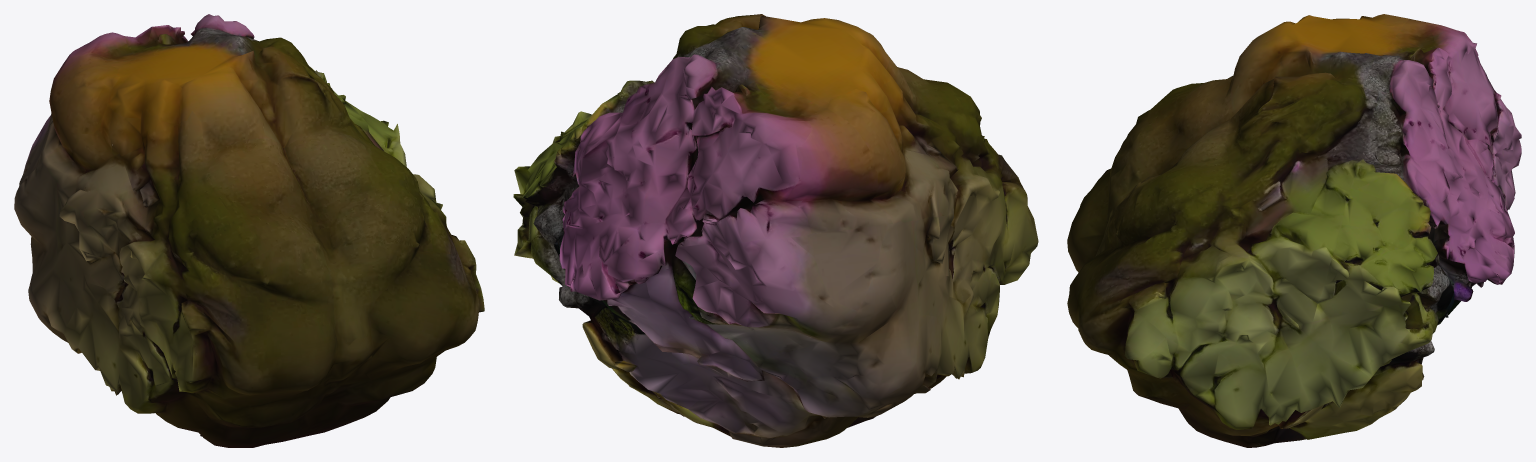
File: mineral_rock.glb
3 views of the same model, side by side, from view 1: azimuth 30°, elevation 25°; view 2: azimuth 150°, elevation 25°; view 3: azimuth 270°, elevation 25° (orthographic). The views are drawn at different scales.
Visible parts, largest first — view 1: tripo_node_eec8eab7; view 2: tripo_node_eec8eab7; view 3: tripo_node_eec8eab7.
Boxes of the visible parts, <box> form: tripo_node_eec8eab7: <box>14,14,484,447</box>; tripo_node_eec8eab7: <box>513,14,1038,447</box>; tripo_node_eec8eab7: <box>1067,14,1521,447</box>.
Size of the model in its own units: 0.8911 by 0.8642 by 0.9768.
Materials: 1 (1 with a texture image).
